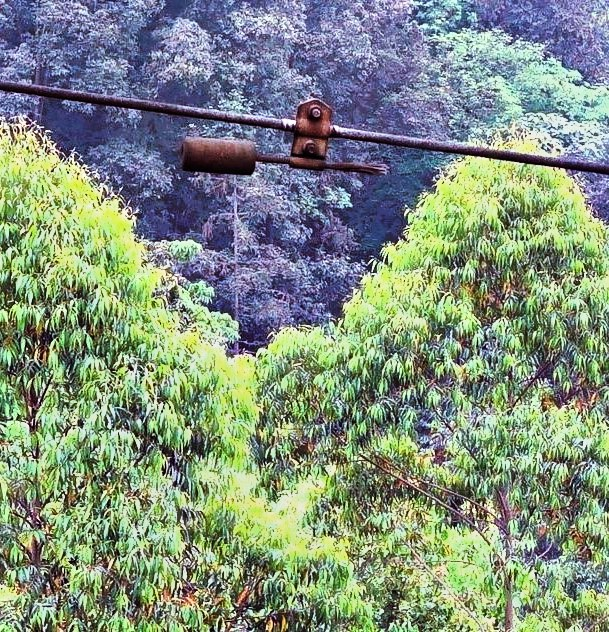Damage of shockproof hammer: (172, 90, 403, 191)
